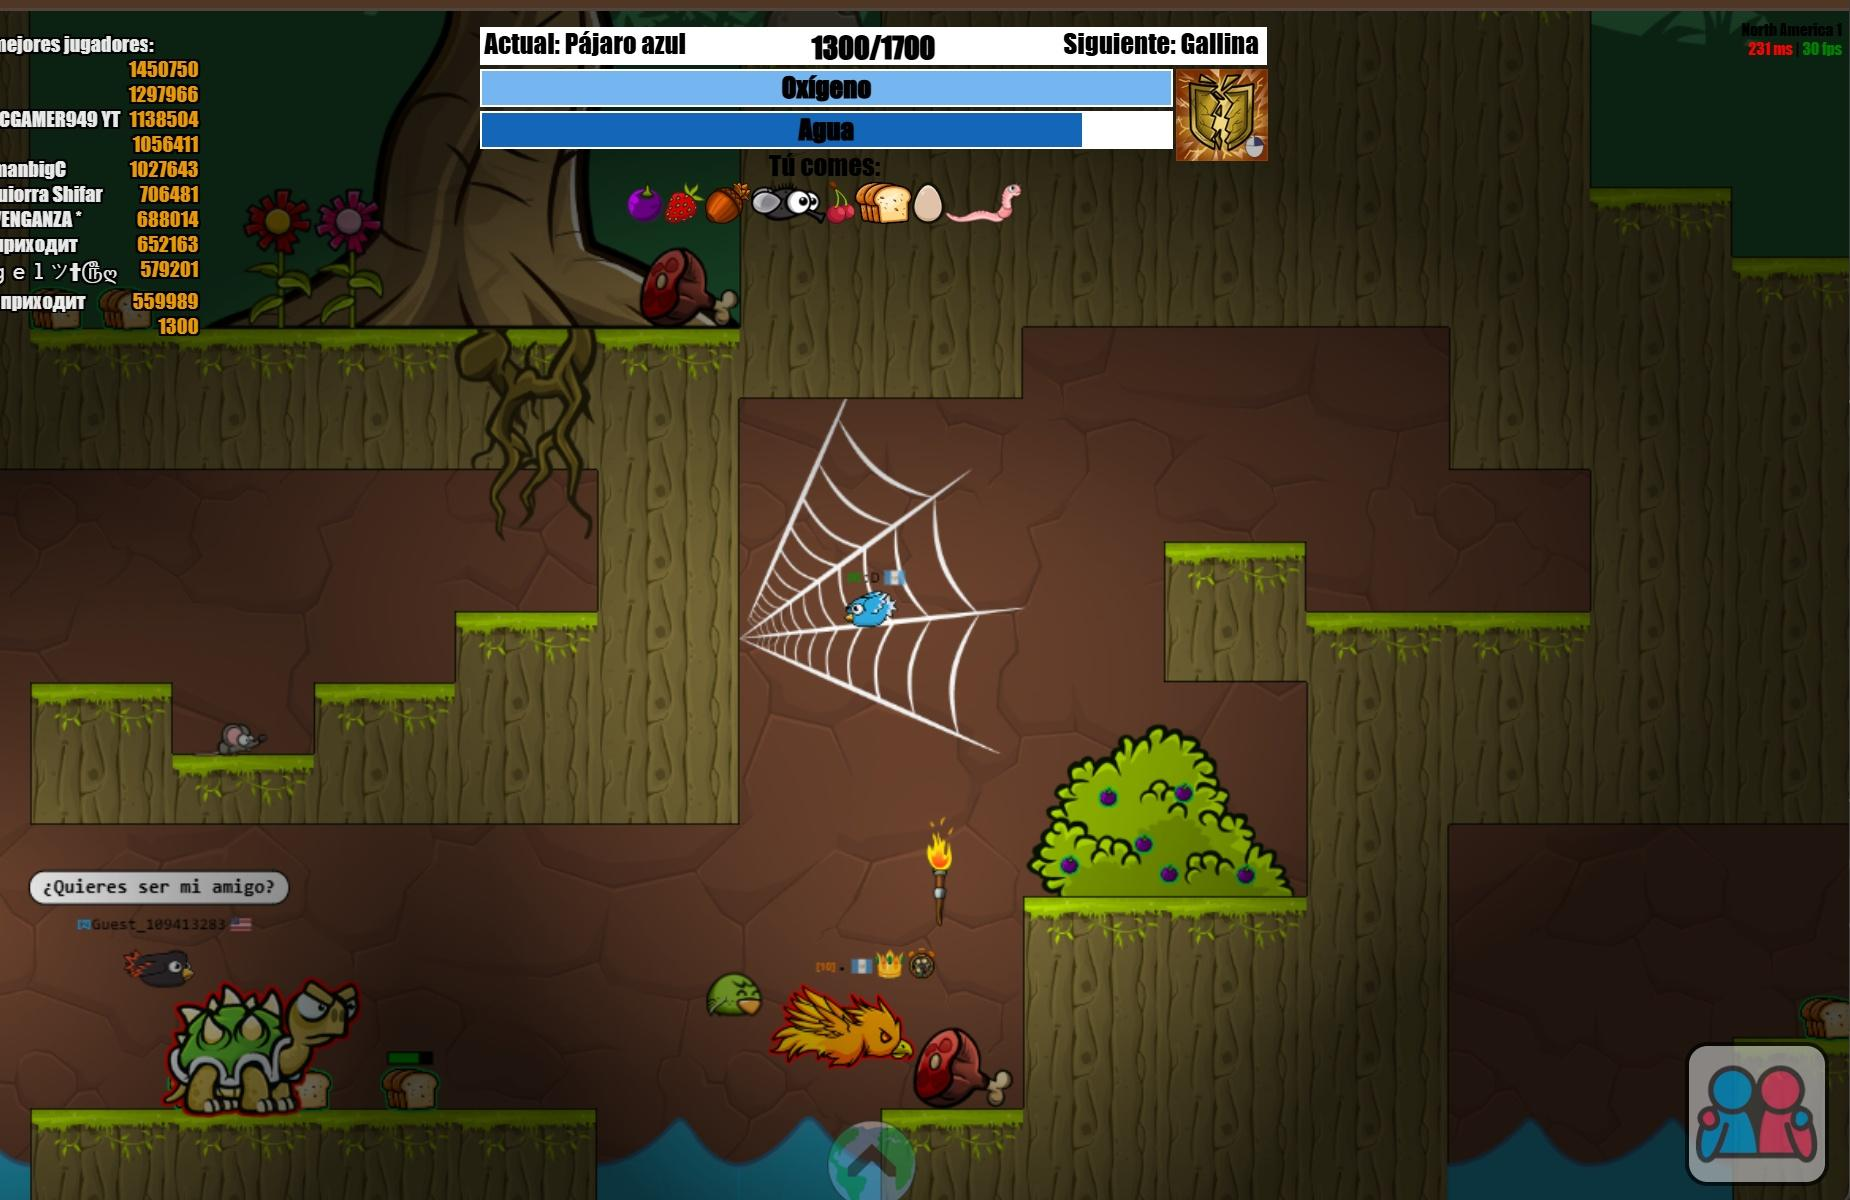antorcha: (925, 833, 955, 870)
arandano: (628, 185, 663, 218), (1060, 855, 1080, 875), (1099, 787, 1119, 806), (1176, 782, 1193, 801), (1161, 864, 1180, 882), (1238, 866, 1255, 883), (1135, 836, 1153, 851)
arbusto: (1029, 727, 1296, 895)
avellana: (707, 185, 750, 225)
carne: (638, 253, 740, 332), (920, 1027, 1014, 1111)
fenix: (782, 987, 913, 1076)
flor: (244, 193, 311, 256), (318, 191, 380, 255)
fresa: (665, 187, 704, 222)
guinda: (827, 183, 854, 225)
gusano: (947, 181, 1025, 225)
huevo: (913, 182, 944, 222)
mascota: (703, 968, 763, 1018)
mirlo: (125, 945, 196, 992)
mosca: (752, 183, 825, 224)
p_azul: (845, 591, 895, 630)
pan: (379, 1065, 441, 1112), (855, 182, 912, 222), (1800, 991, 1845, 1041), (100, 289, 152, 329), (31, 287, 84, 328), (298, 1071, 337, 1110)
raiz: (457, 320, 593, 537)
raton: (218, 723, 268, 756)
tela: (744, 406, 1009, 755)
tortuga: (166, 979, 361, 1118)
